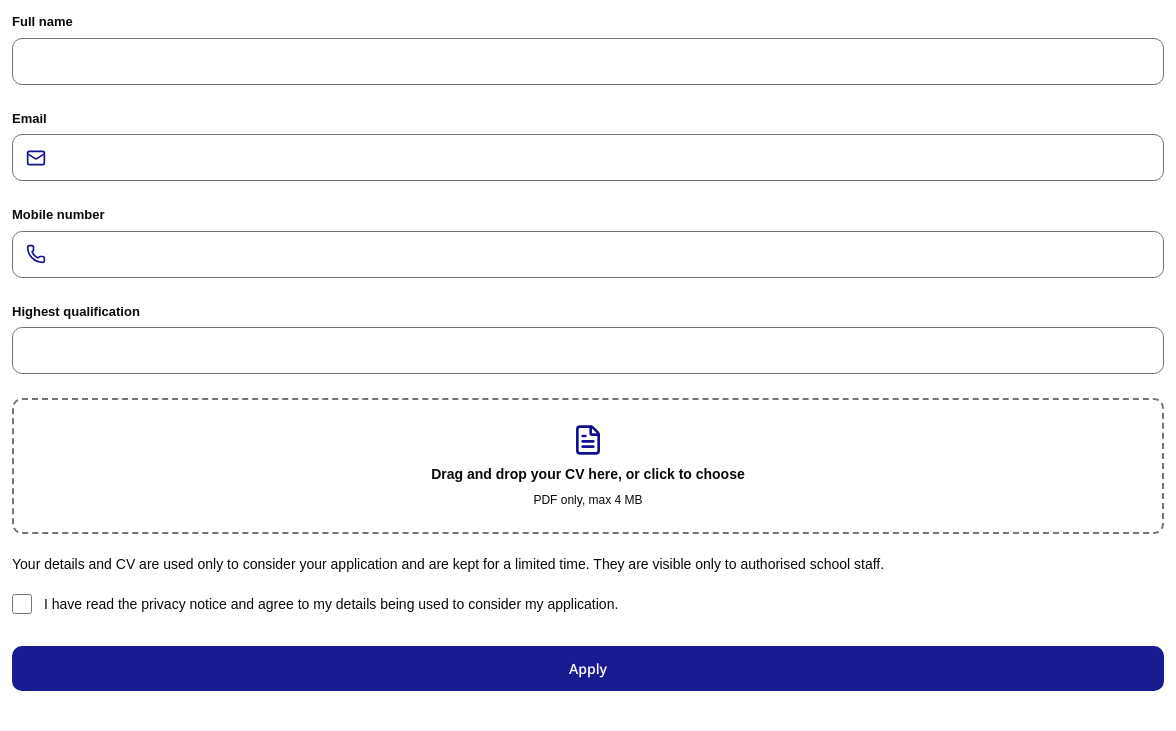
CareersForm › puts each message in the field's accessible description
Click the button "Apply" at (588, 668), box [12,646,1164,691]
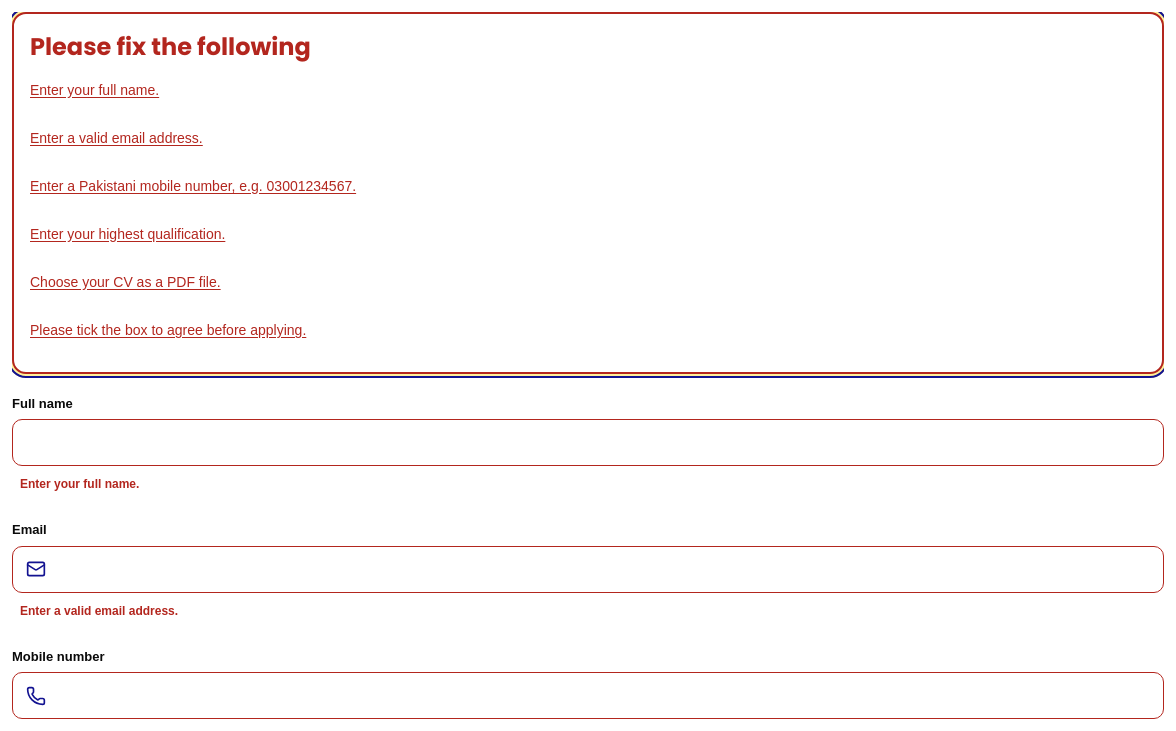
Expected: the text "Enter your full name." is shown, [12,472,1164,496]
